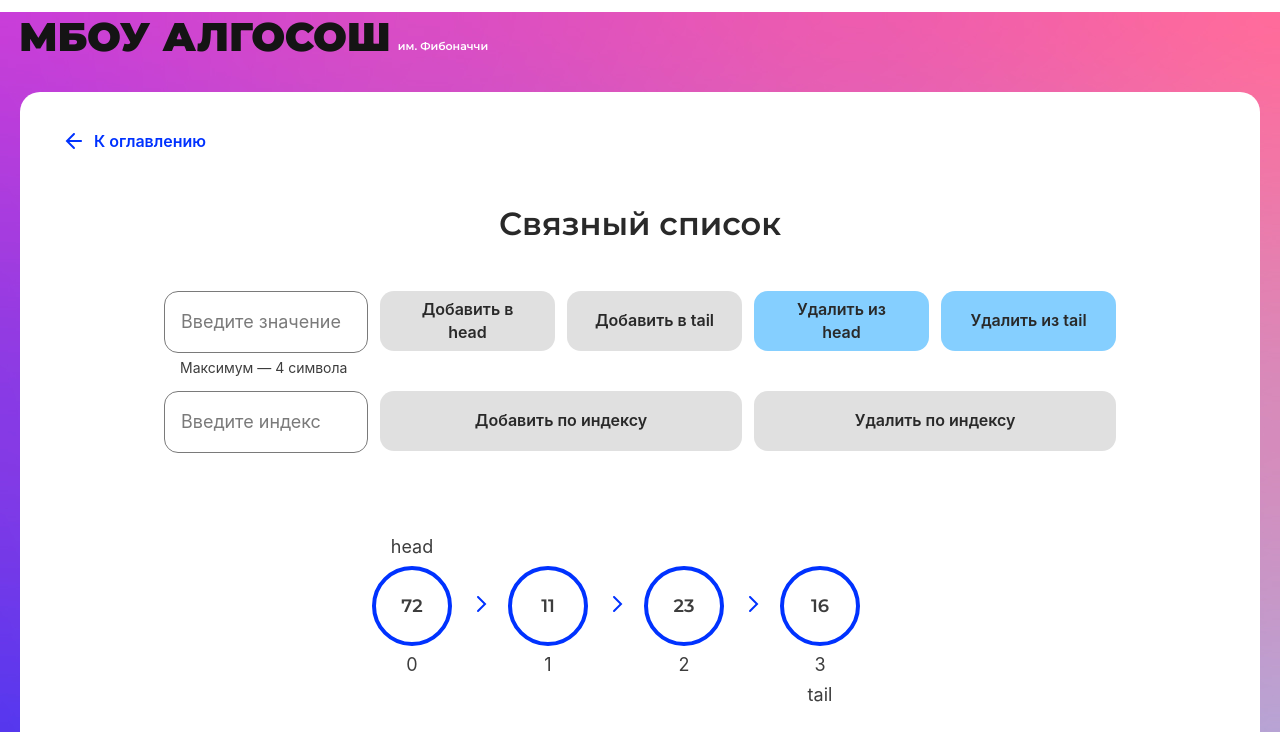
it: list page display correctly › should add by index correctly
Step 1. Type "1" into the field with test id "inputValue" → (266, 322), box [164, 291, 368, 353]
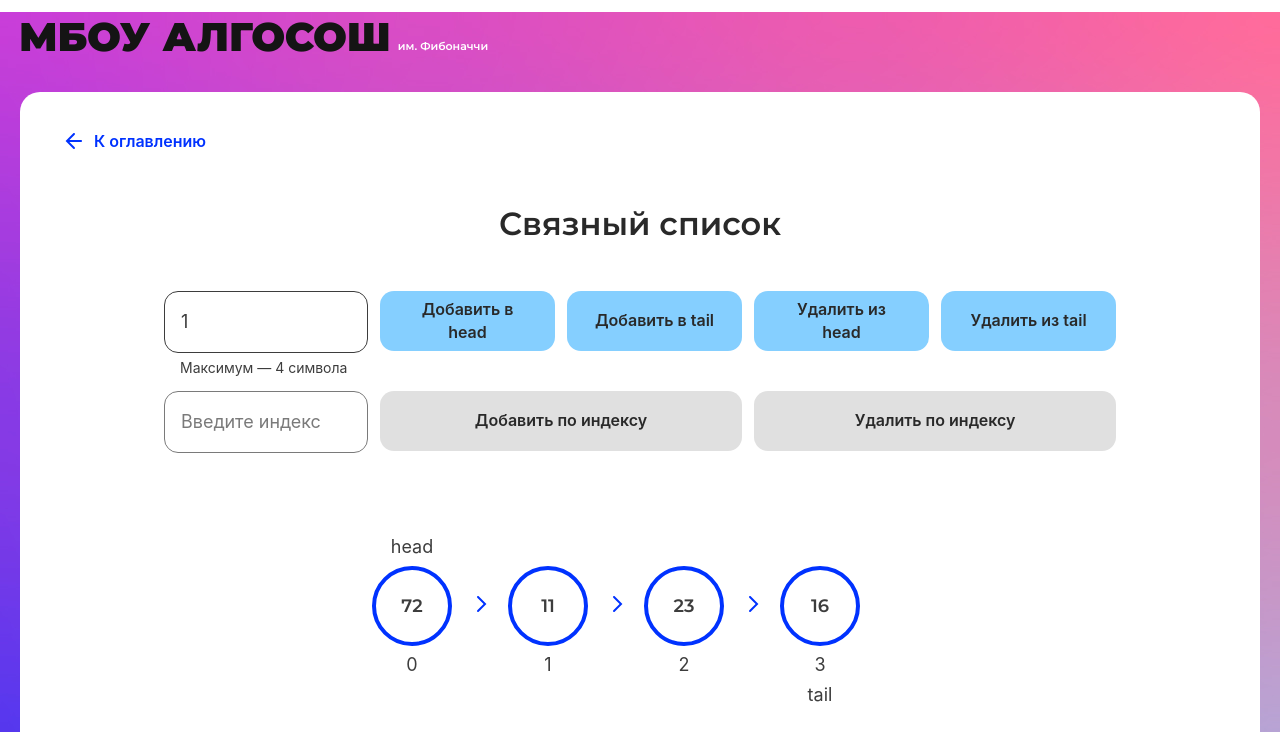
Step 2. Type "2" into the number field with test id "indexValue" → (266, 422), box [164, 391, 368, 453]
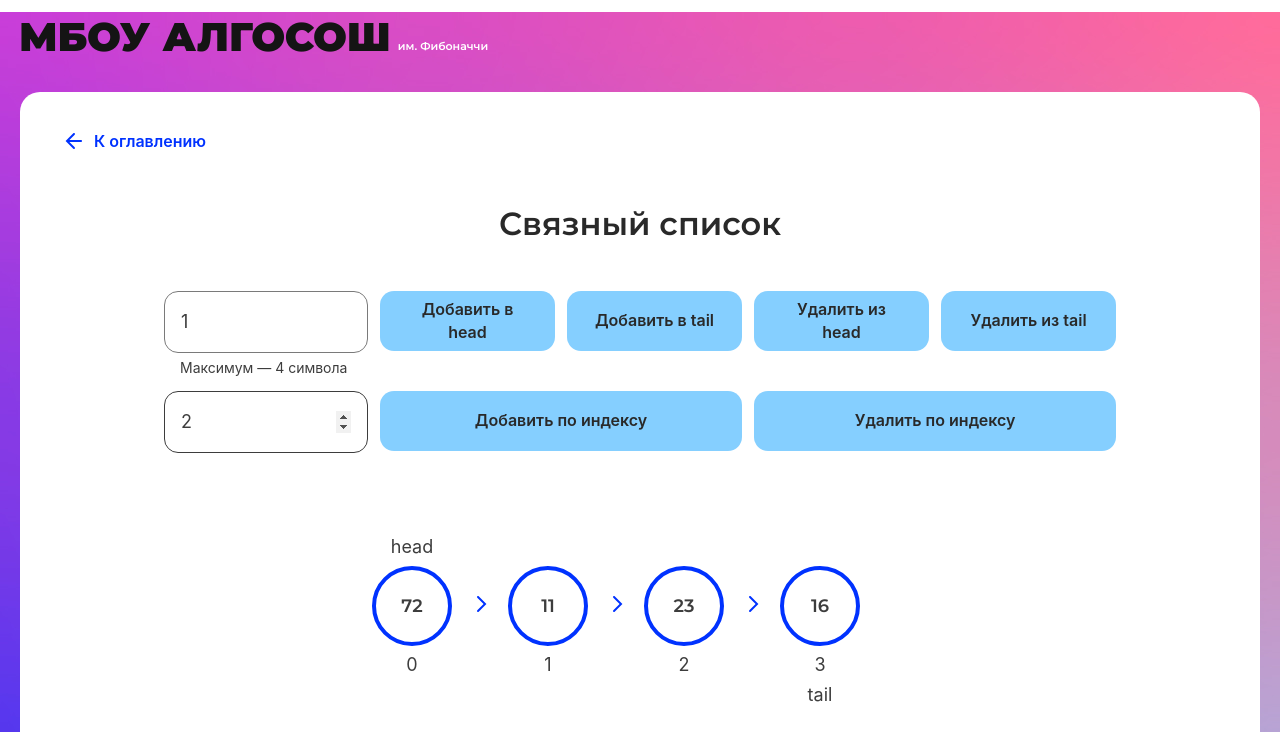
Step 3. Click the button with test id "addByIndex" → (561, 421), box [380, 391, 742, 451]
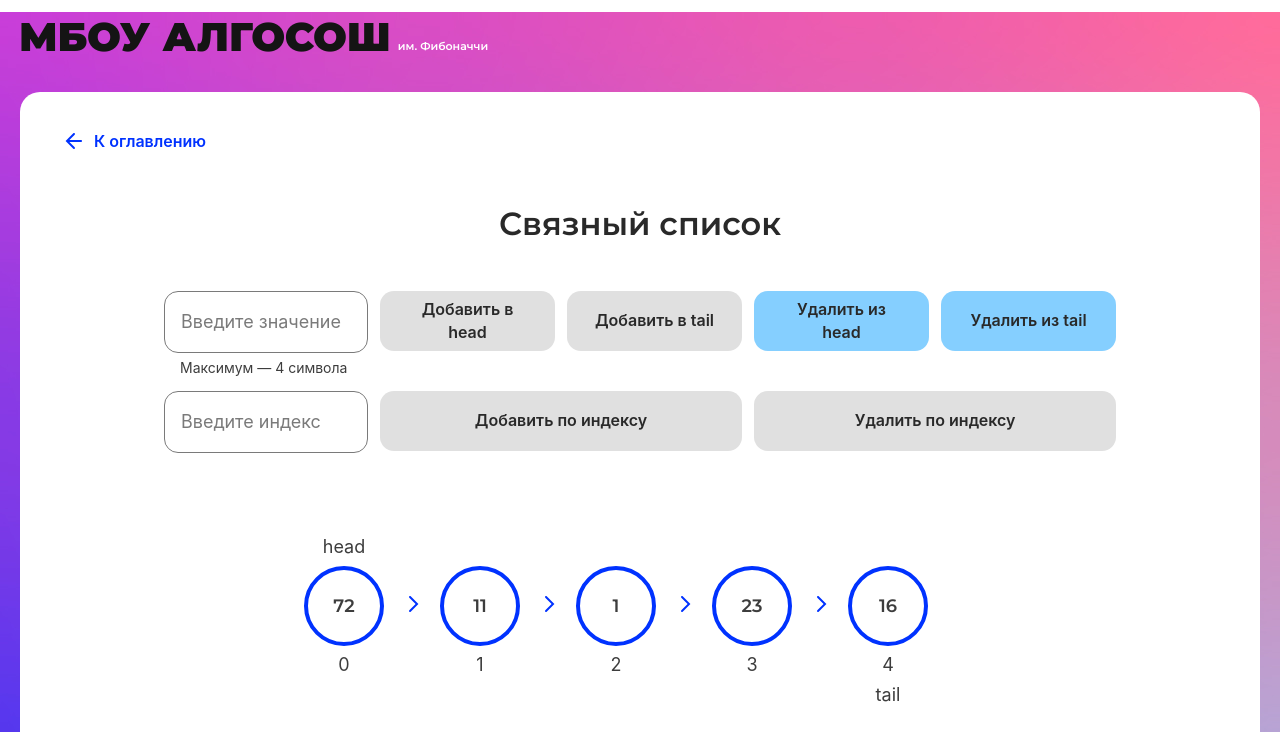
Expected: the number of elements with test id "circle-cont" is 5
Expected: the number of icons with test id "arrow" is 4, [400, 592, 424, 616]; [536, 592, 560, 616]; [672, 592, 696, 616]; [808, 592, 832, 616]
